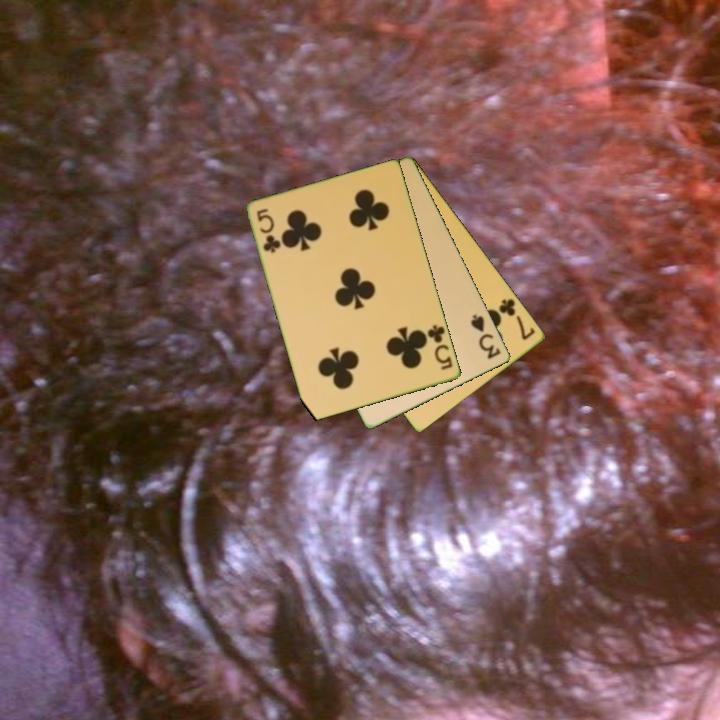3s: (467, 311, 504, 362)
5c: (422, 321, 456, 373), (253, 205, 283, 256)
7c: (495, 295, 538, 343)
